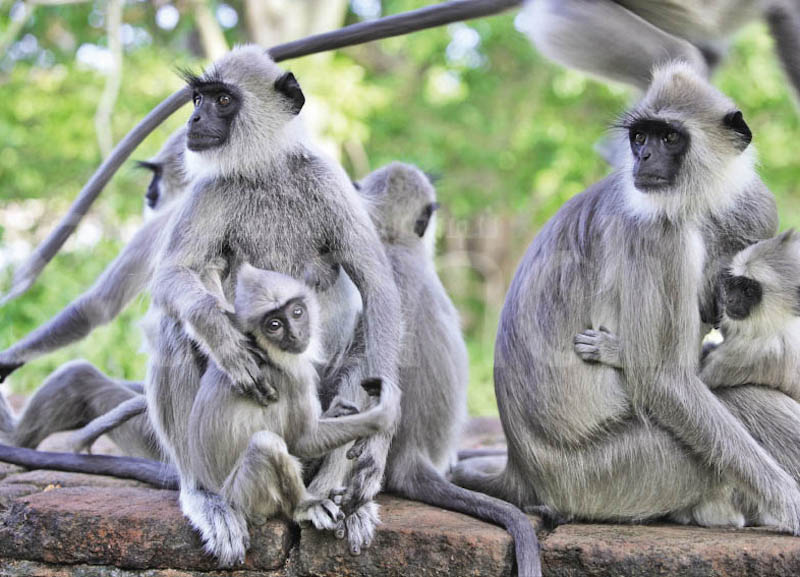Monkey: (486, 52, 775, 547), (199, 267, 347, 552)
